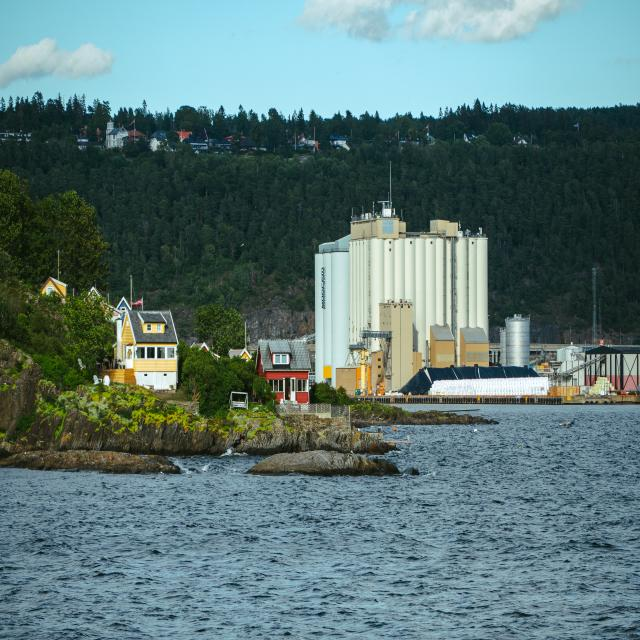building: (313, 209, 532, 400), (118, 309, 181, 391), (253, 335, 313, 405)
